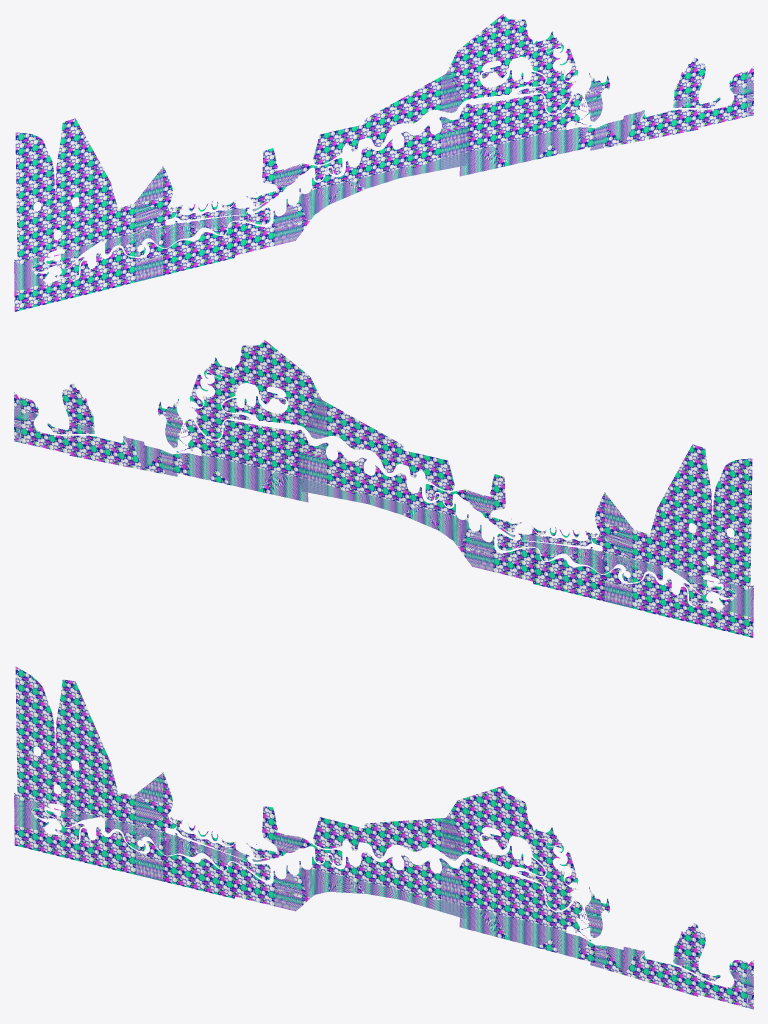
File: snow05.glb
3 views of the same model, one above another, from view 1: azimuth 30°, elevation 25°; view 2: azimuth 150°, elevation 25°; view 3: azimuth 330°, elevation 25° (orthographic).
Parts seen in each view (by area): view 1: snow05; view 2: snow05; view 3: snow05.
Boxes of the visible parts, left/top/right/bottom form: snow05: left=14, top=14, right=753, bottom=311; snow05: left=14, top=340, right=753, bottom=637; snow05: left=14, top=666, right=753, bottom=1009.
Size of the model in its own units: 10654 by 2469 by 1.
1 material, 1 textured.
